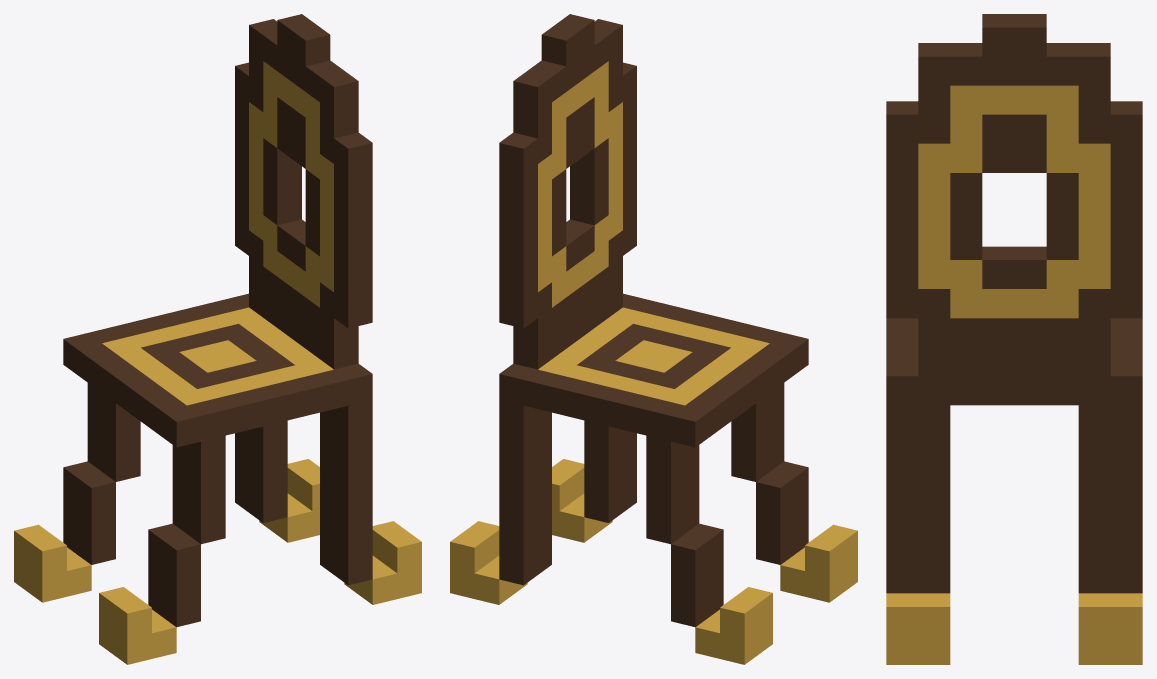
Rendered from ggj chair.obj.
The picture shows the model from 3 angles, left to right: view 1: azimuth 30°, elevation 25°; view 2: azimuth 150°, elevation 25°; view 3: azimuth 270°, elevation 25°; orthographic projection. The views are drawn at different scales.
Size of the model in its own units: 1.2 by 2.1 by 0.8.
Materials: 1 (1 with a texture image).
